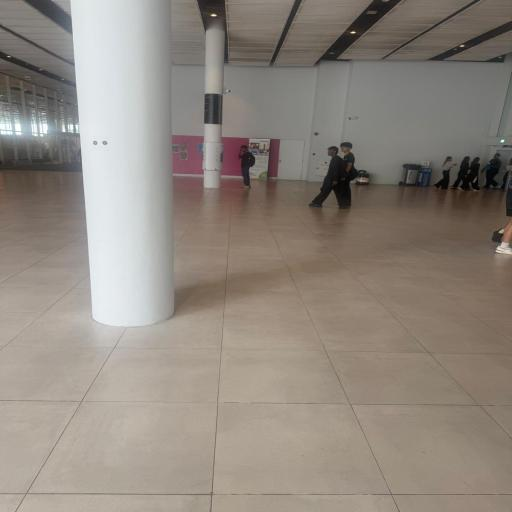person_left: (308, 146, 348, 209), (338, 142, 358, 208), (237, 145, 255, 189)
person_right: (434, 156, 458, 190), (450, 156, 472, 190), (461, 157, 481, 191)
